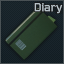Slim diary: (0, 0, 64, 64)
